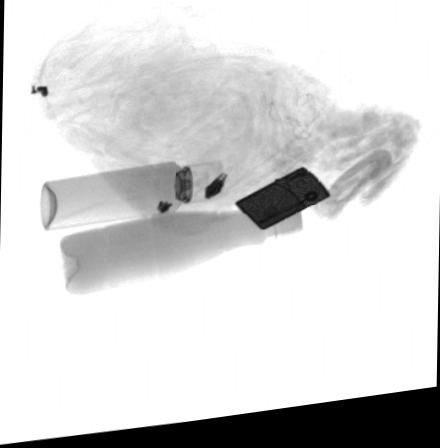Lighter: (233, 175, 331, 238)
Sprayer: (39, 164, 224, 233)
